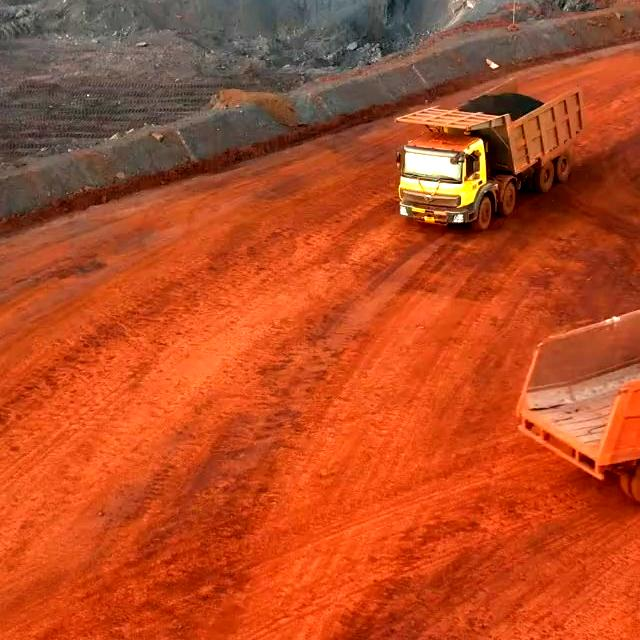Dumper truck: (397, 112, 508, 229)
